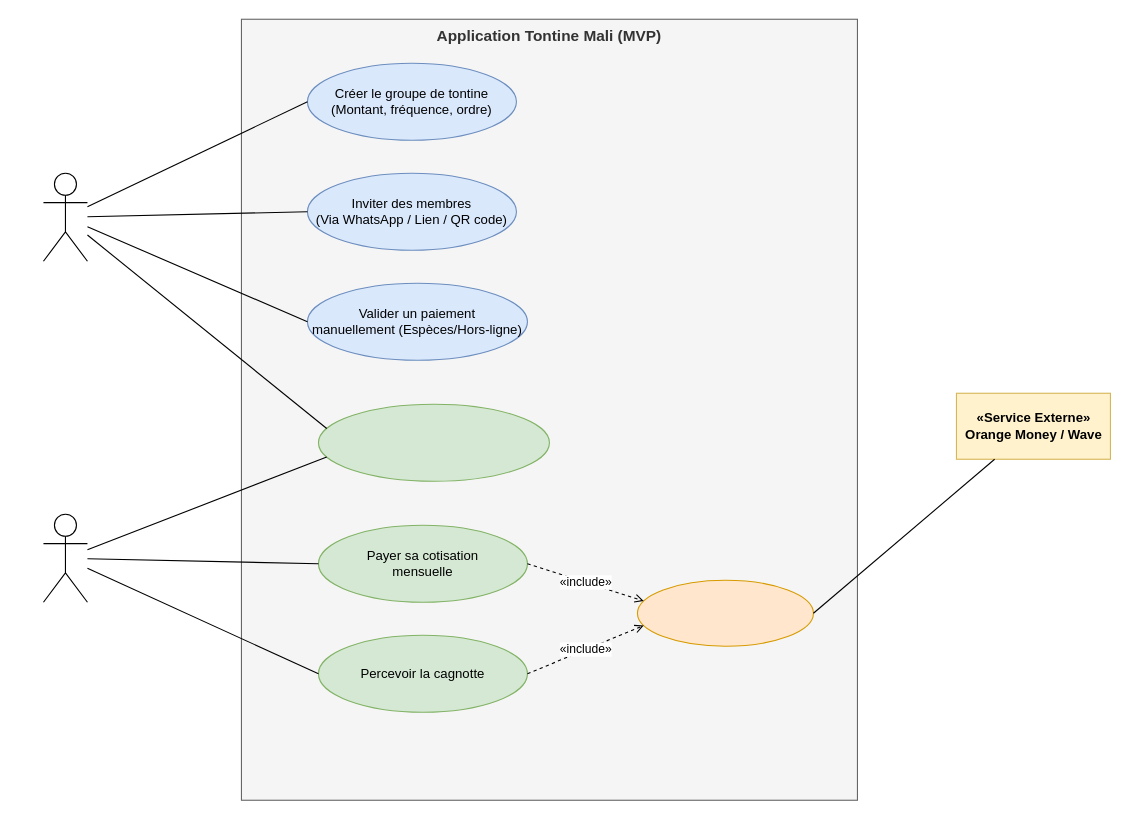
The diagram is 1130 pixels wide and 820 high, and some of its shapes have lost their labels. The shapes that lost their labels are listed below. From the top down, each one's centre as x and y in pixels, then its label:
[64,216]: Administrateur (Gestionnaire)
[433,442]: Consulter le tableau de bord (Qui a payé, historique, calendrier)
[64,557]: Membre
[724,612]: «Include» Authentifier & exécuter le transfert mobile
